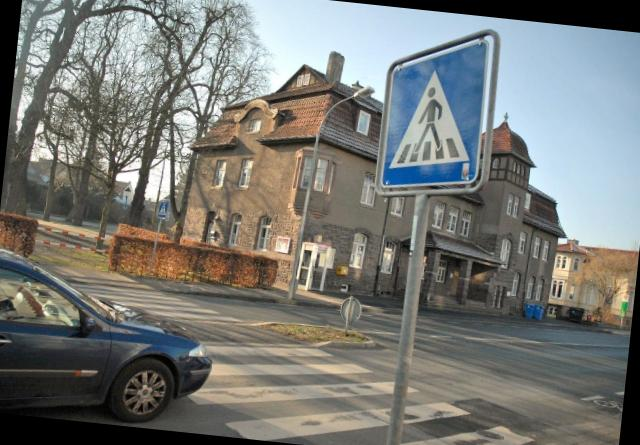crosswalk-sign: (375, 29, 495, 203), (156, 201, 169, 221)
